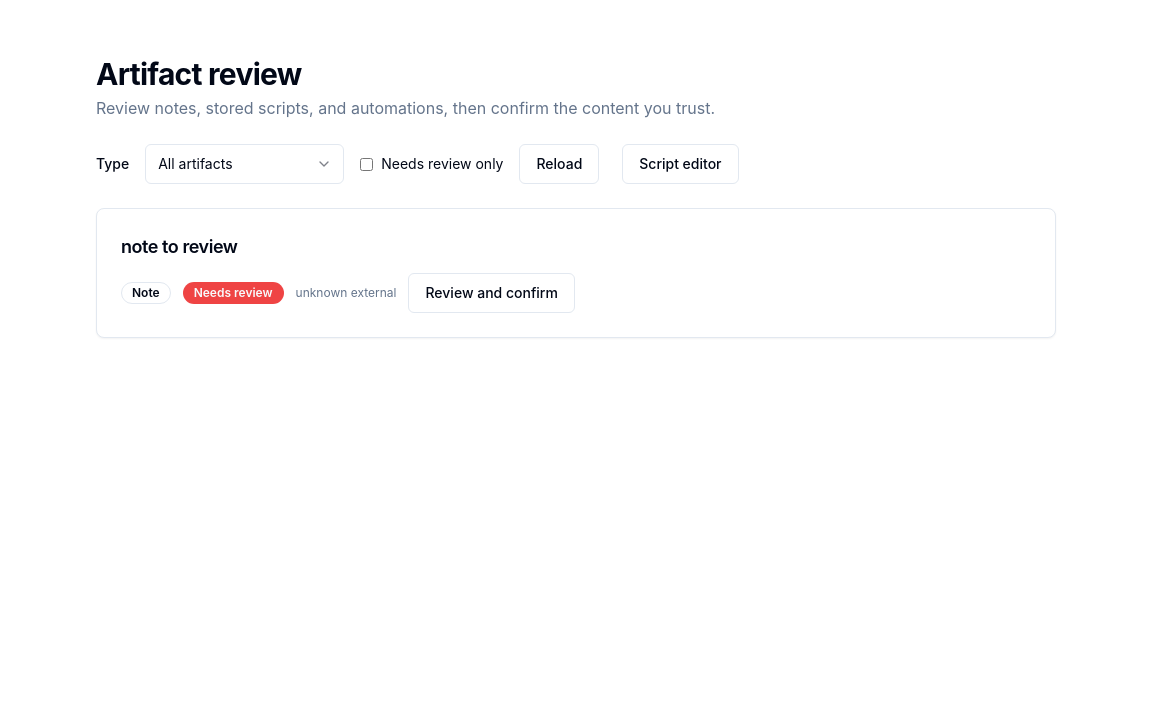
Test: Artifact review › cancels review without recording approval
Click the button "Review and confirm" at (492, 293), box [408,273,575,313]
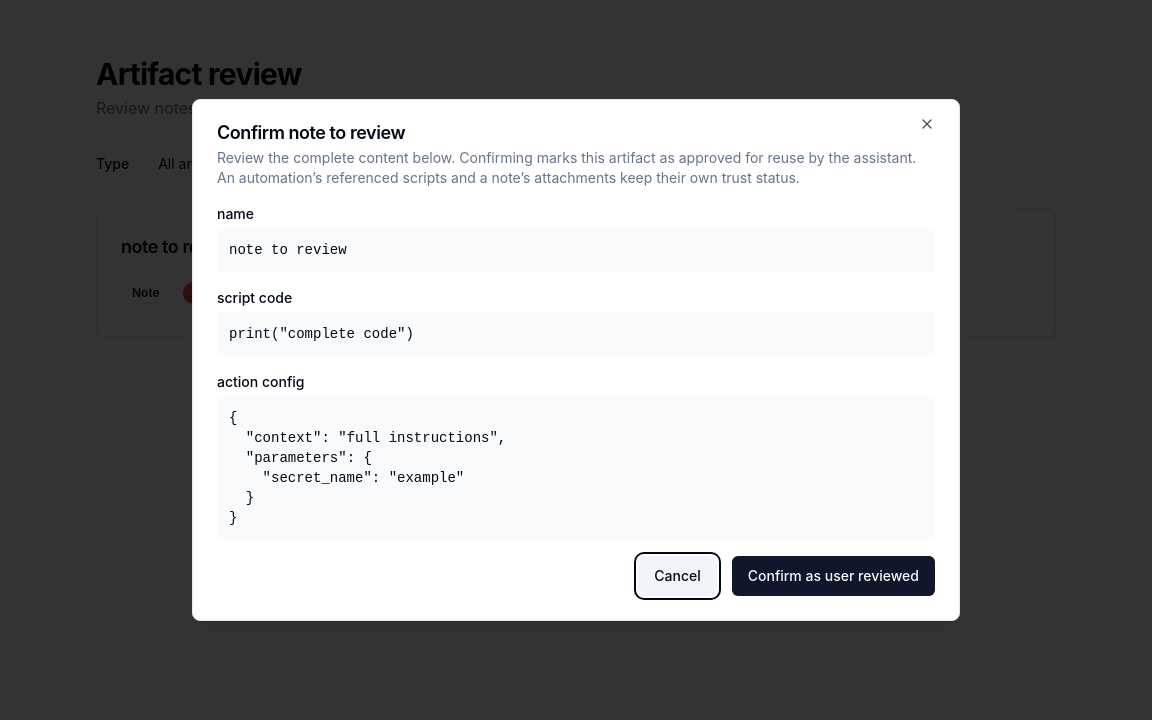
Click the button "Cancel" at (678, 576), box [638,556,717,596]
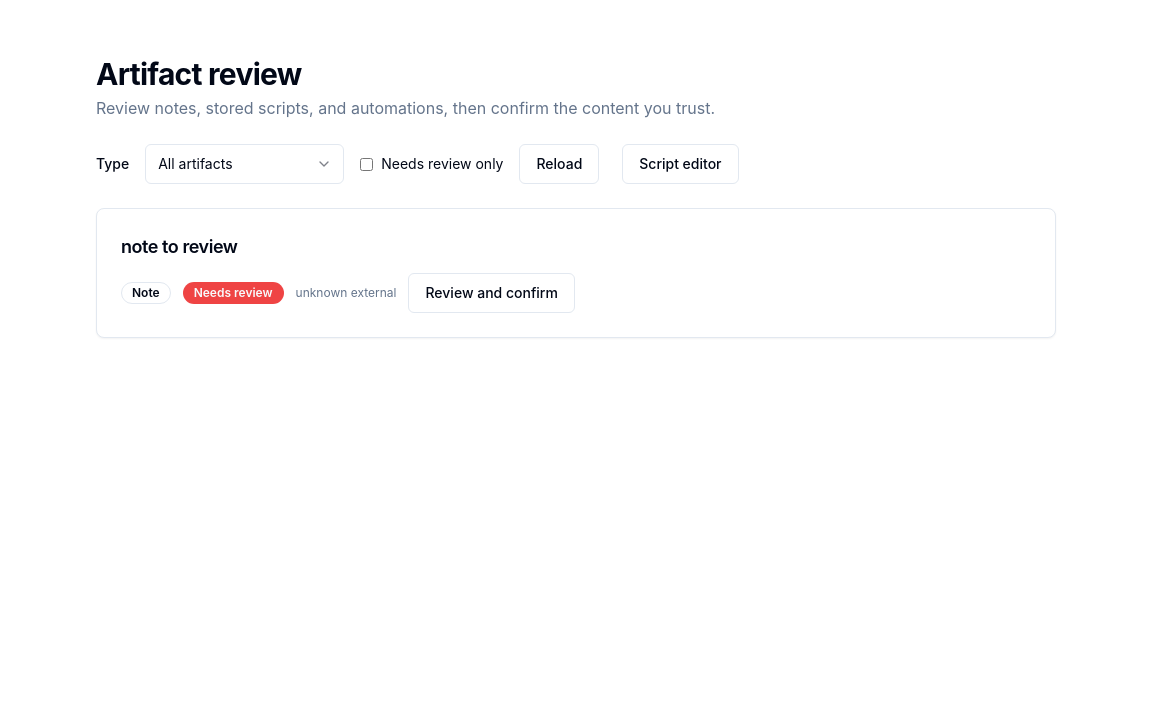
Check: the dialog is gone
